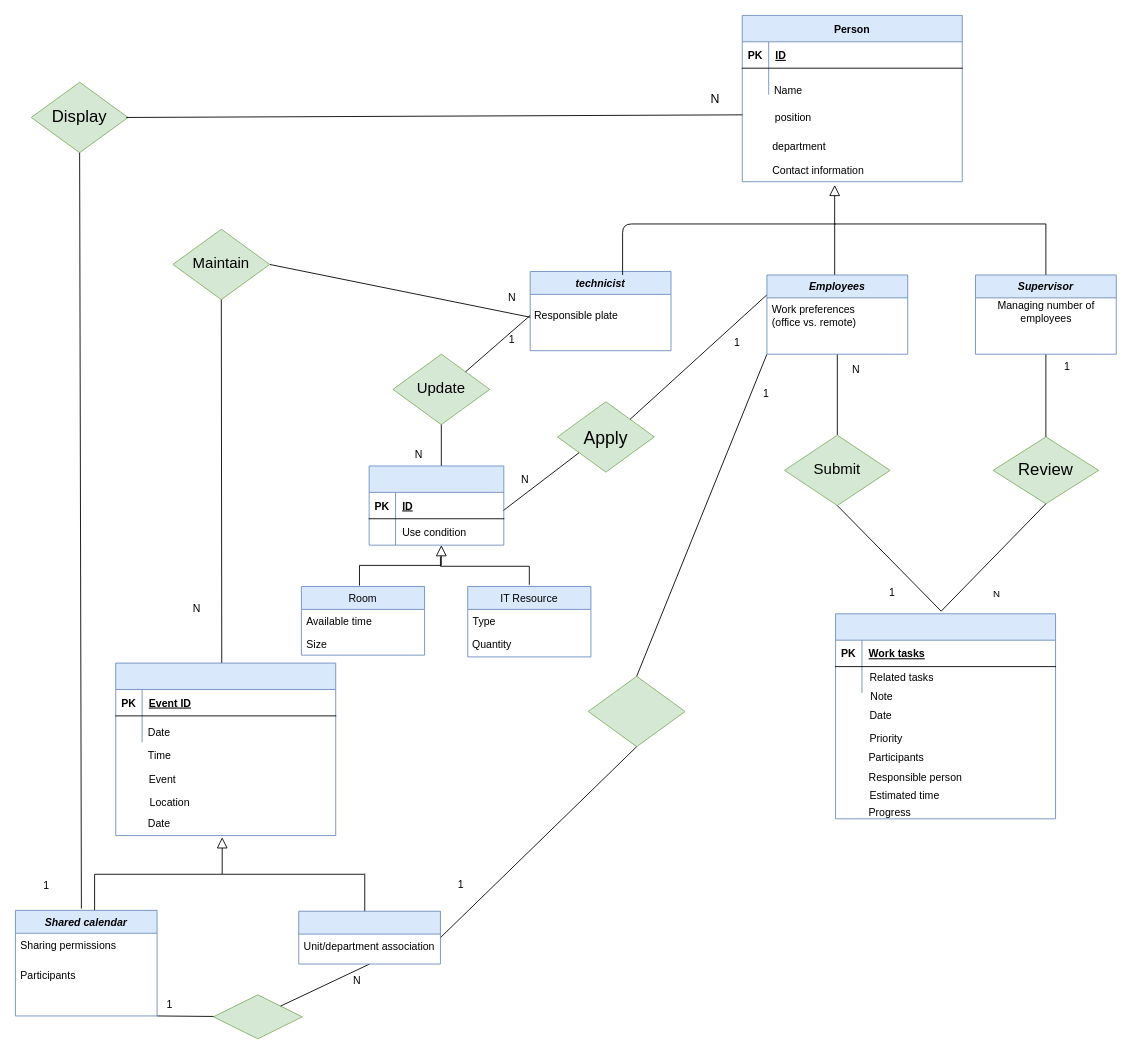
This 1132x1054 diagram has some shape labels left out. The box of each missing label's shape, as (x1, y1, x2, y2) in pixels:
Calendar: (115, 662, 336, 836)
Generate: (587, 675, 685, 747)
Personal calendar: (298, 910, 440, 964)
Resources: (368, 465, 504, 545)
Synchronization: (213, 994, 302, 1039)
Work arrangement: (835, 613, 1056, 819)
